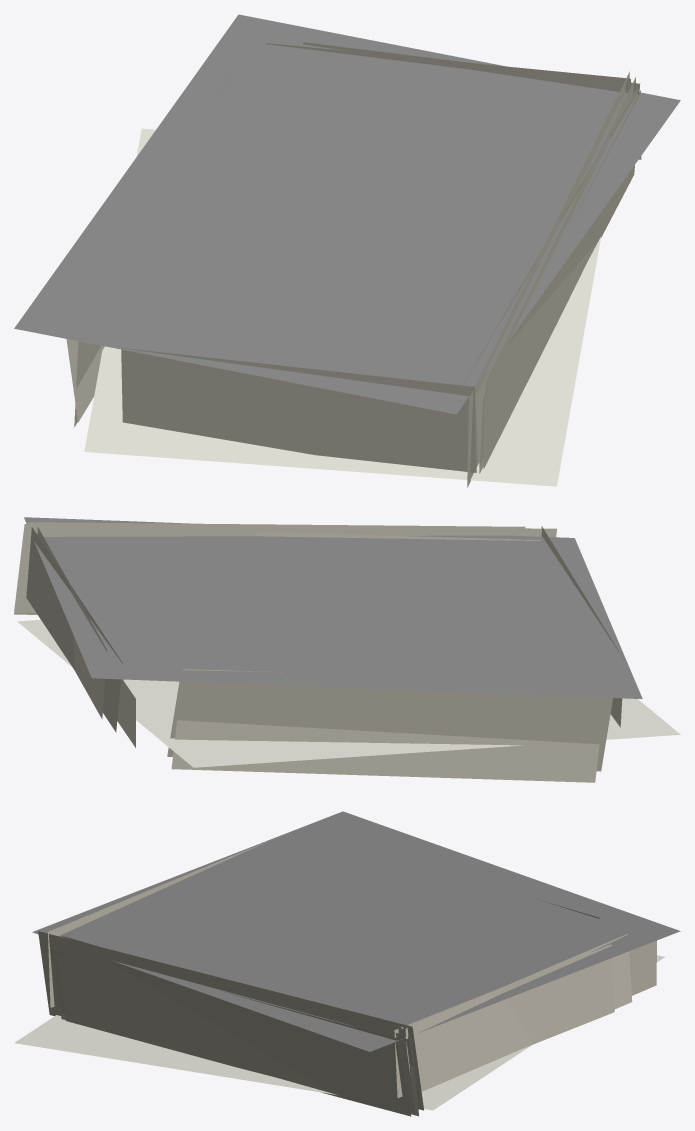
Rendered from proxy_scene.obj.
3 renders of one model, top to bottom at view 1: azimuth 30°, elevation 25°; view 2: azimuth 150°, elevation 25°; view 3: azimuth 270°, elevation 25°, orthographic. The views are drawn at different scales.
Parts seen in each view (by area): view 1: floor_000, wall_008, ceiling_000, wall_000, wall_002, wall_005, wall_004, wall_001, wall_007, wall_006; view 2: floor_000, wall_007, wall_006, ceiling_000, wall_002, wall_001, wall_004, wall_000, wall_011, wall_010, wall_008; view 3: floor_000, wall_000, wall_005, wall_001, ceiling_000, wall_004, wall_002, wall_008, wall_010, wall_011, wall_009.
Part boxes in pixels (bbox=[...]): floor_000: bbox=[14, 14, 680, 414]; wall_008: bbox=[121, 348, 476, 472]; ceiling_000: bbox=[84, 128, 601, 486]; wall_000: bbox=[483, 77, 635, 468]; wall_002: bbox=[467, 71, 629, 487]; wall_005: bbox=[508, 90, 640, 344]; wall_004: bbox=[303, 42, 641, 159]; wall_001: bbox=[266, 43, 630, 82]; wall_007: bbox=[66, 339, 104, 422]; wall_006: bbox=[74, 74, 231, 427]; floor_000: bbox=[24, 517, 642, 699]; wall_007: bbox=[167, 681, 612, 771]; wall_006: bbox=[171, 669, 599, 782]; ceiling_000: bbox=[17, 619, 680, 767]; wall_002: bbox=[14, 524, 556, 612]; wall_001: bbox=[26, 527, 122, 732]; wall_004: bbox=[37, 527, 106, 719]; wall_000: bbox=[28, 522, 525, 528]; wall_011: bbox=[254, 531, 540, 540]; wall_010: bbox=[117, 679, 135, 747]; wall_008: bbox=[541, 526, 623, 727]; floor_000: bbox=[32, 811, 680, 1051]; wall_000: bbox=[55, 939, 415, 1113]; wall_005: bbox=[109, 961, 411, 1116]; wall_001: bbox=[405, 934, 632, 1091]; ceiling_000: bbox=[14, 955, 665, 1110]; wall_004: bbox=[394, 944, 614, 1097]; wall_002: bbox=[38, 931, 423, 1110]; wall_008: bbox=[48, 841, 267, 1007]; wall_010: bbox=[629, 940, 656, 995]; wall_011: bbox=[62, 936, 411, 1102]; wall_009: bbox=[51, 949, 420, 1109].
Bounding box in the file's own units: 13.07 × 3.26 × 13.
